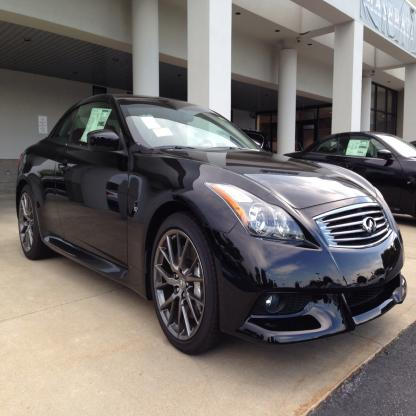Car: (16, 92, 409, 355), (280, 130, 416, 219), (240, 126, 271, 150)
